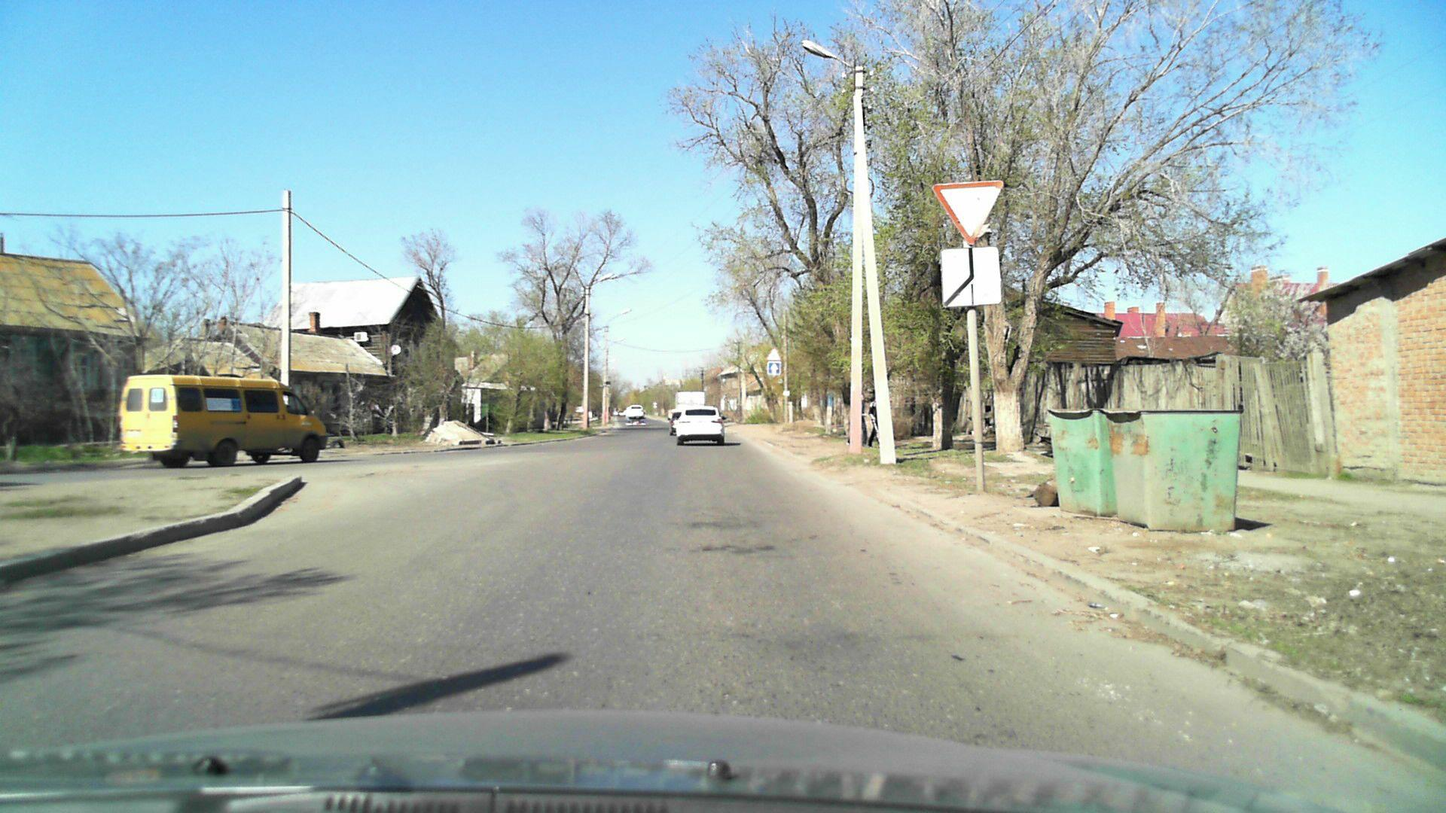road_sign: (926, 178, 1011, 250), (940, 246, 1001, 307)
